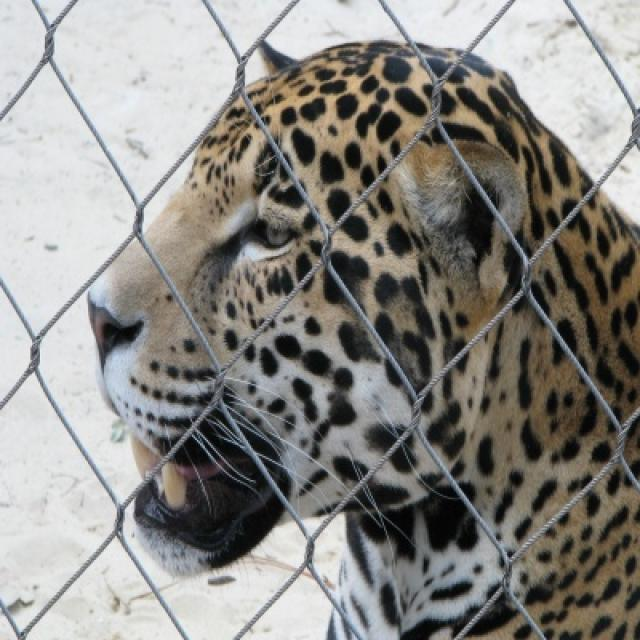Jaguar: (88, 40, 638, 638)
